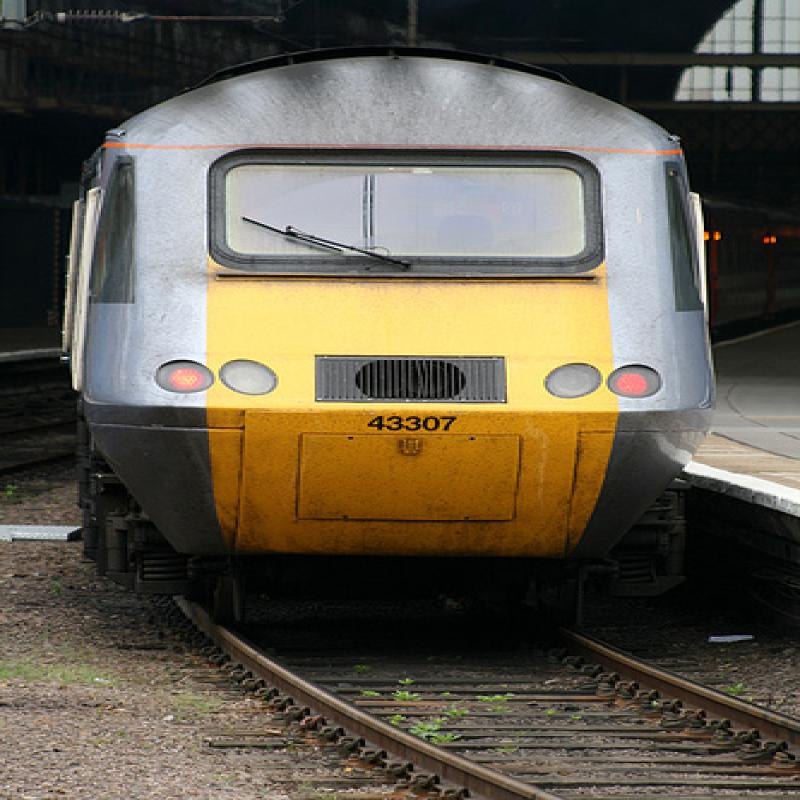train: (70, 50, 800, 623)
